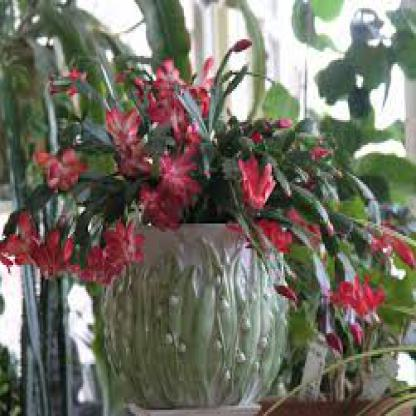Aglonema: (113, 5, 362, 387)
